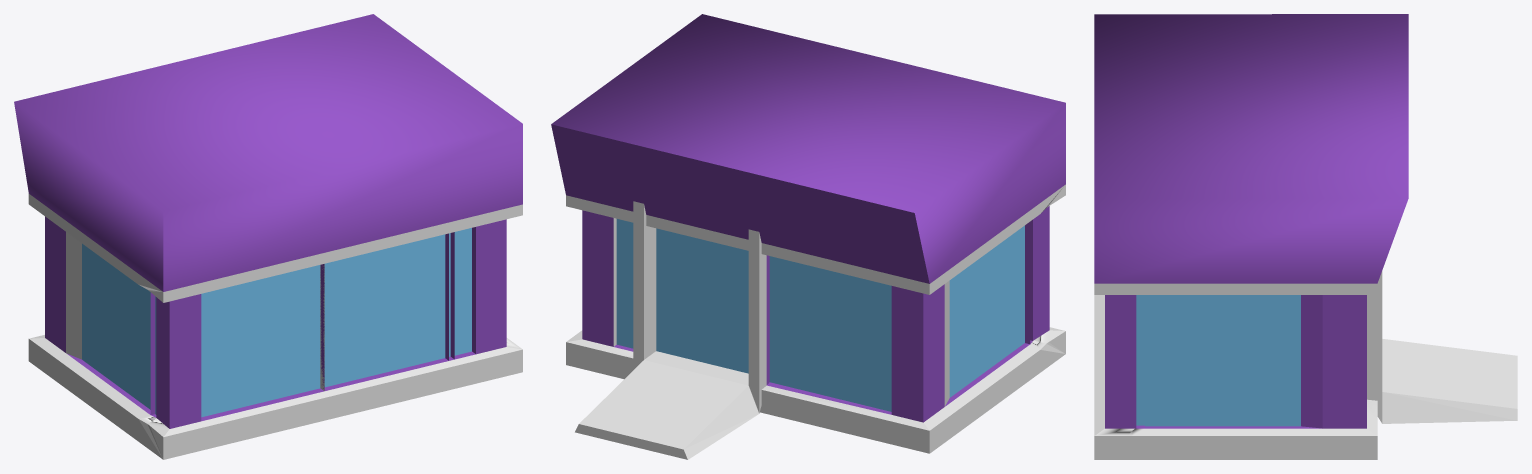
The model's file is Shop3x2x2Purple.fbx.
The picture shows the model from 3 angles, left to right: view 1: azimuth 30°, elevation 25°; view 2: azimuth 150°, elevation 25°; view 3: azimuth 270°, elevation 25°; orthographic projection. The views are drawn at different scales.
Parts seen in each view (by area): view 1: Shop.001; view 2: Shop.001; view 3: Shop.001.
Boxes of the visible parts, x1=… form: Shop.001: x1=14, y1=14, x2=522, y2=459; Shop.001: x1=551, y1=14, x2=1065, y2=459; Shop.001: x1=1094, y1=14, x2=1517, y2=459.
Size of the model in its own units: 3 by 1.98 by 2.91.
Materials: 1 (1 with a texture image).
